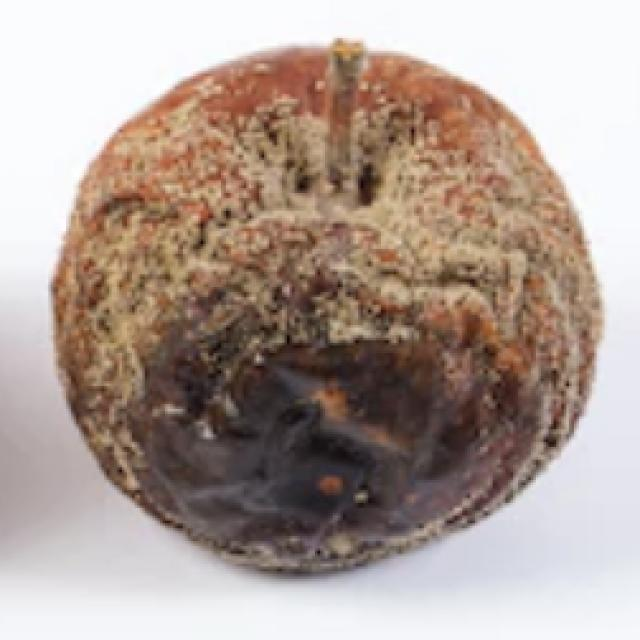Rotten: (73, 60, 585, 557)
